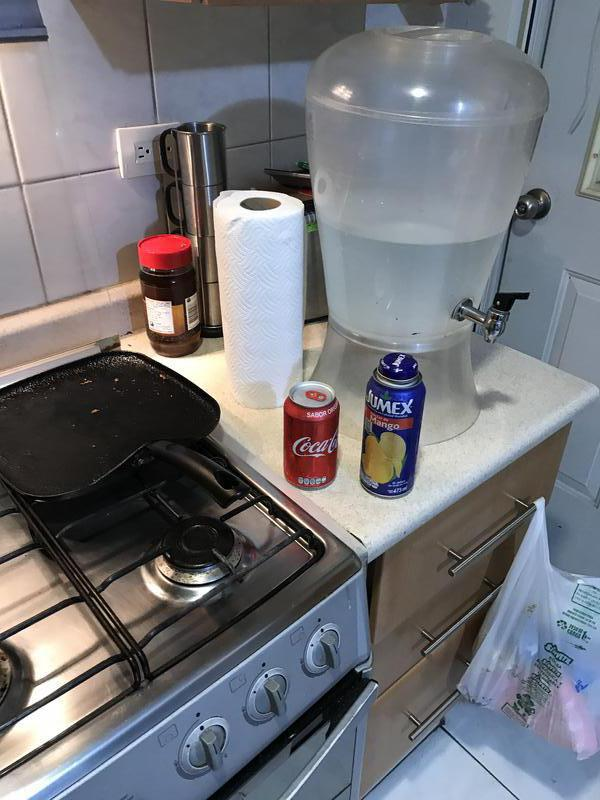coca_cola: (284, 383, 342, 492)
jugo_jumex: (362, 350, 425, 499)
